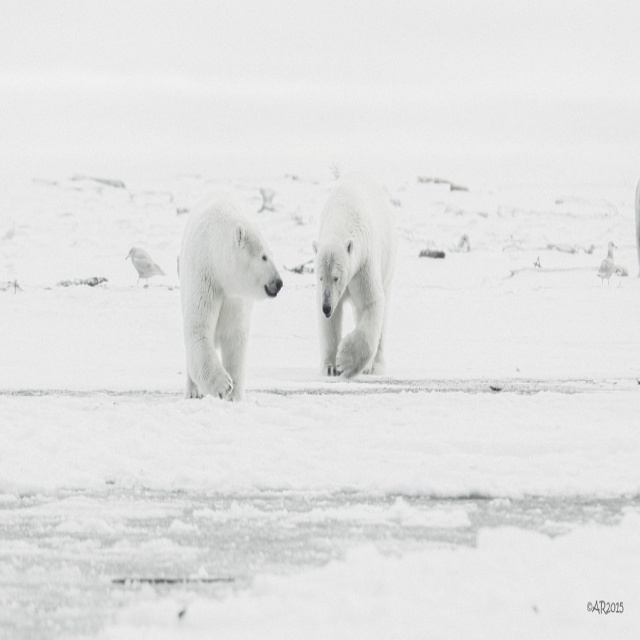Polar bear: (171, 195, 282, 397), (312, 166, 397, 380)
